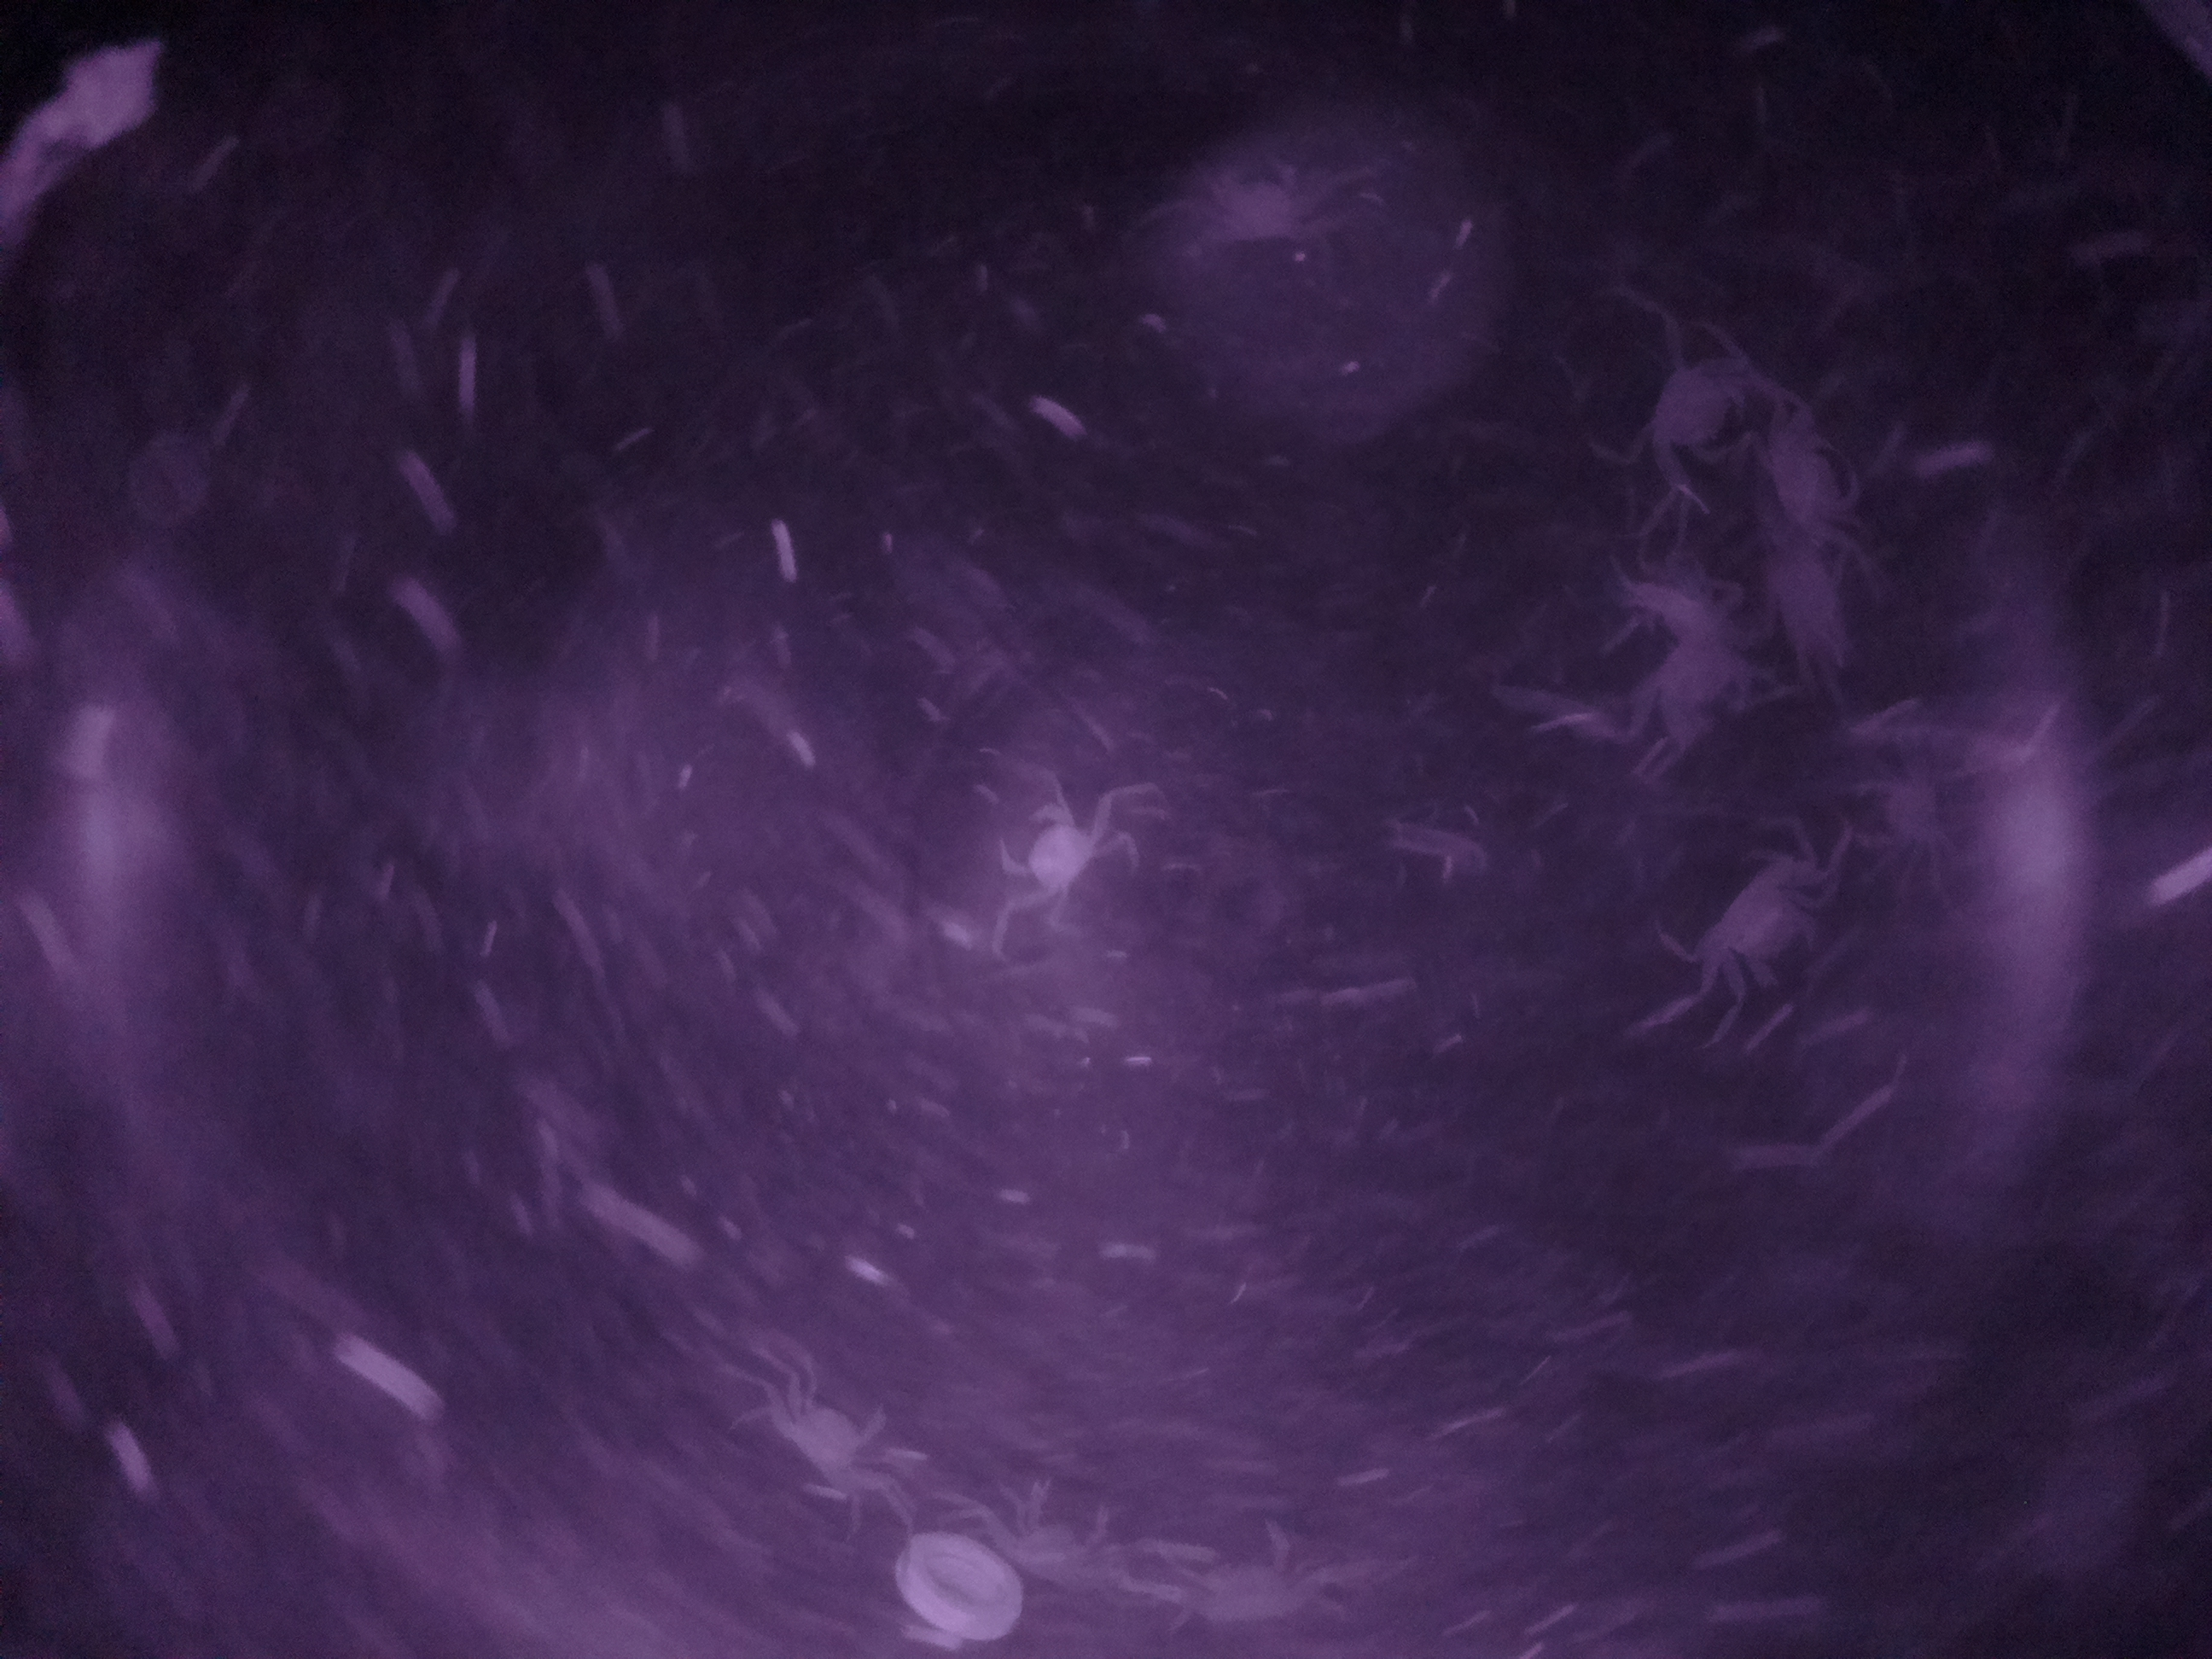Crab: (1684, 842, 1836, 1014), (752, 1351, 895, 1528)
